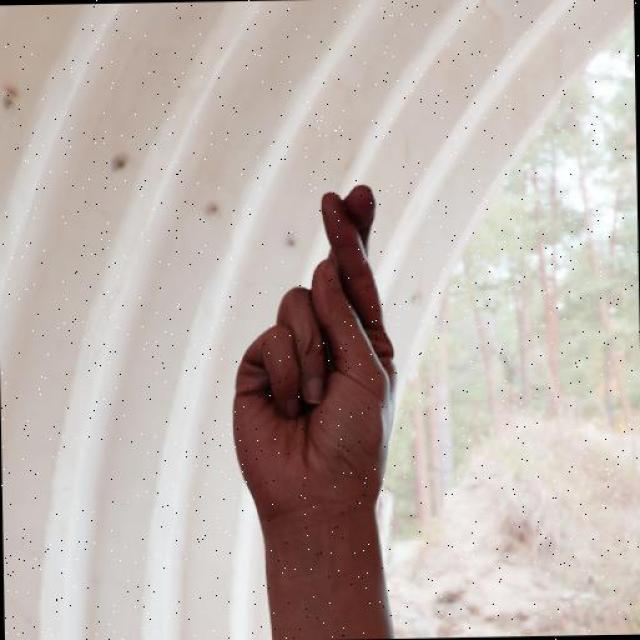R: (224, 179, 405, 526)
